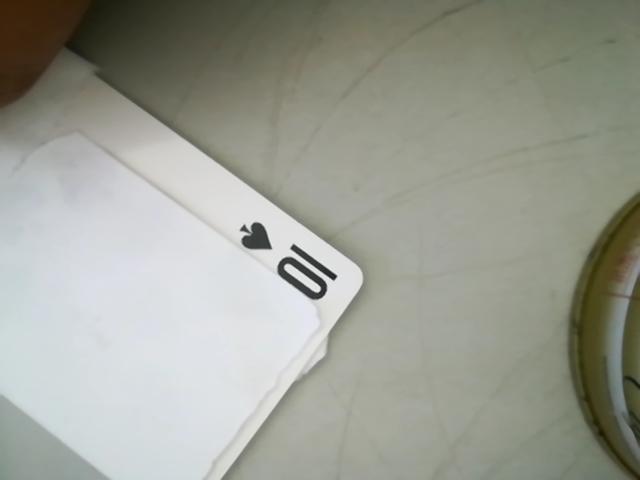ht 10: (232, 213, 356, 314)
